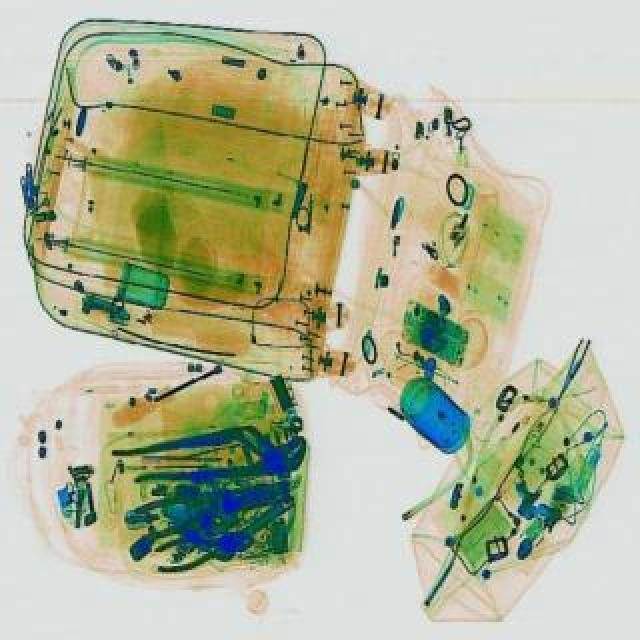scissors: (200, 482, 300, 564)
wrench: (130, 476, 250, 536), (152, 524, 256, 574)
